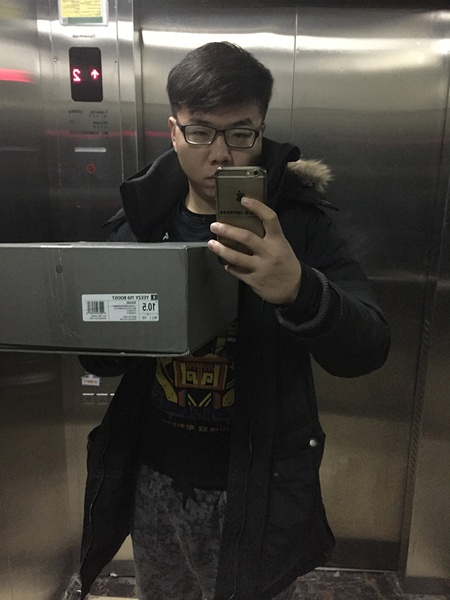face: (177, 86, 261, 205)
